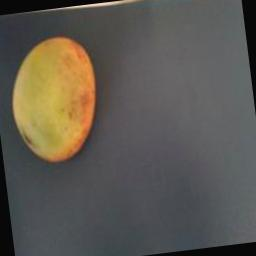Mango Unripe: (0, 12, 112, 170)
